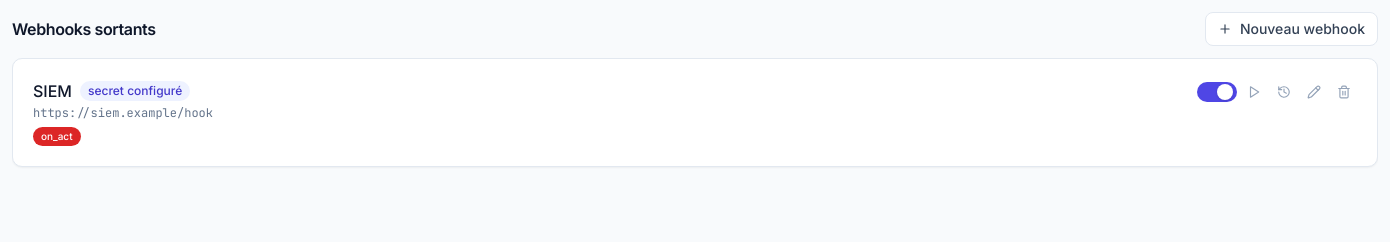
WebhooksSection › teste le webhook et affiche le résultat
The image size is (1390, 242).
Expected: the text "SIEM" is shown, [33, 79, 72, 103]
Click the button named "Tester SIEM".
click(1254, 92)  # box [1241, 79, 1267, 105]
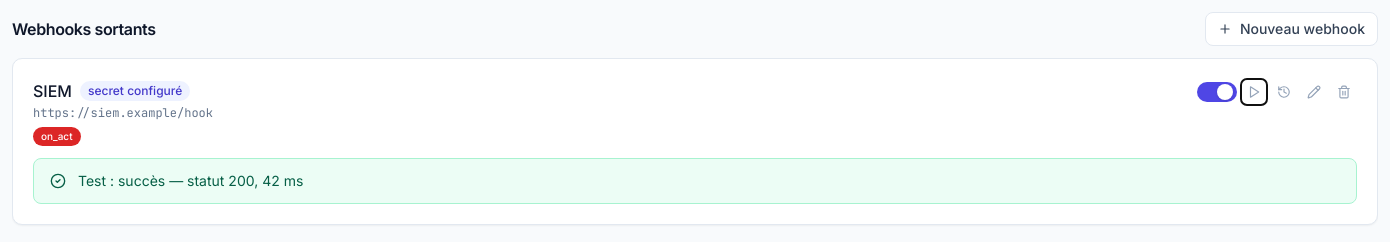
Expected: the text "Test : succès — statut 200, 42 ms" is shown, [78, 171, 303, 191]
